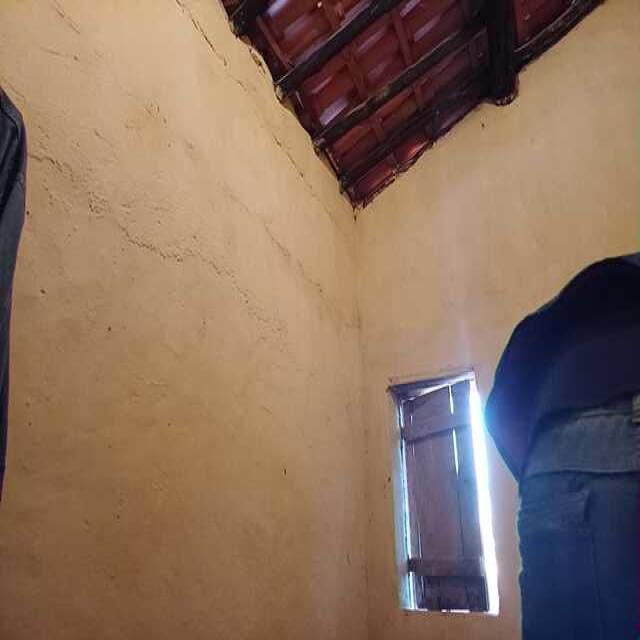colete: (508, 255, 640, 386)
pessoa: (478, 242, 640, 640)
